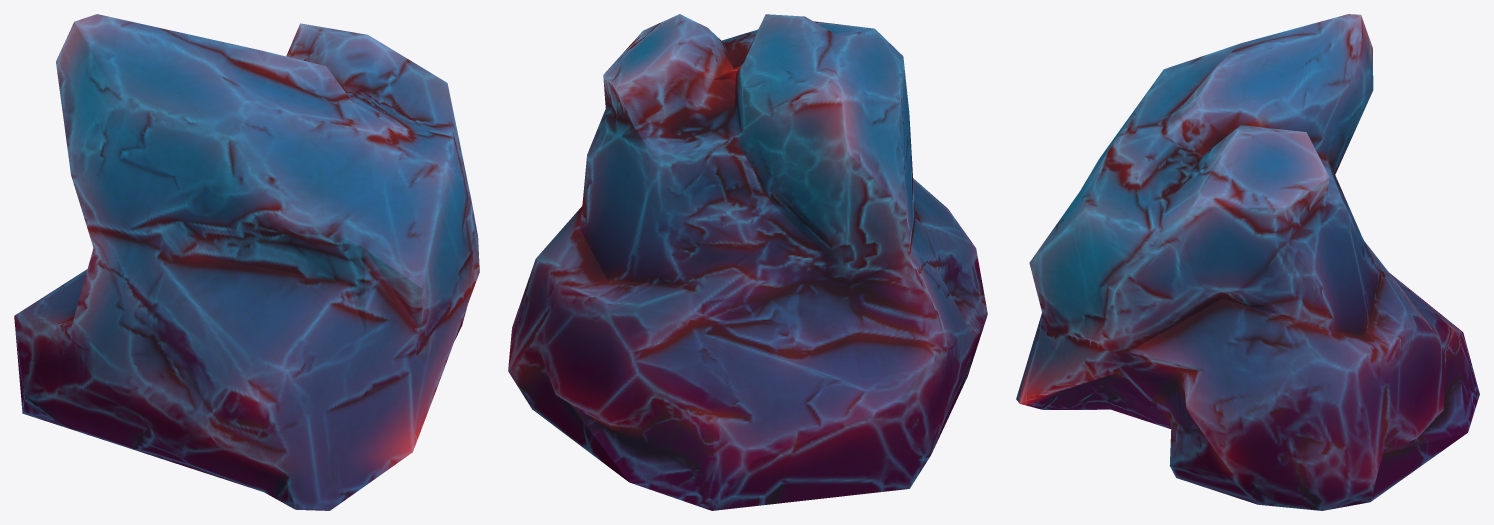
Rendered from crystal_stone_rock.glb.
The picture shows the model from 3 angles, left to right: view 1: azimuth 30°, elevation 25°; view 2: azimuth 150°, elevation 25°; view 3: azimuth 270°, elevation 25°; orthographic projection. The views are drawn at different scales.
Parts seen in each view (by area): view 1: Stone_low_1; view 2: Stone_low_1; view 3: Stone_low_1.
Boxes of the visible parts, x1,y1,x2,y2 form: Stone_low_1: (14,14,479,510); Stone_low_1: (508,14,987,510); Stone_low_1: (1016,14,1479,510).
Size of what is drawn, in the model's own units: 1.08 by 0.9787 by 1.15.
Materials: 1 (1 with a texture image).
